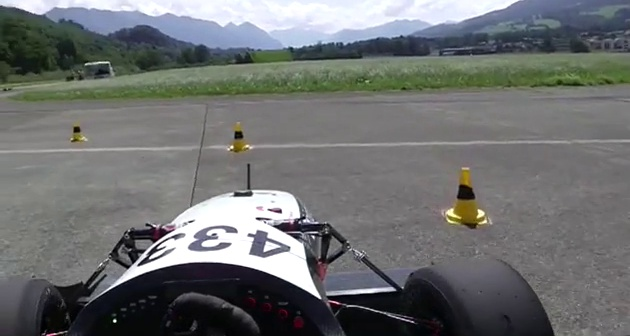Cone: (441, 166, 495, 227), (226, 119, 251, 151), (70, 119, 88, 143)
